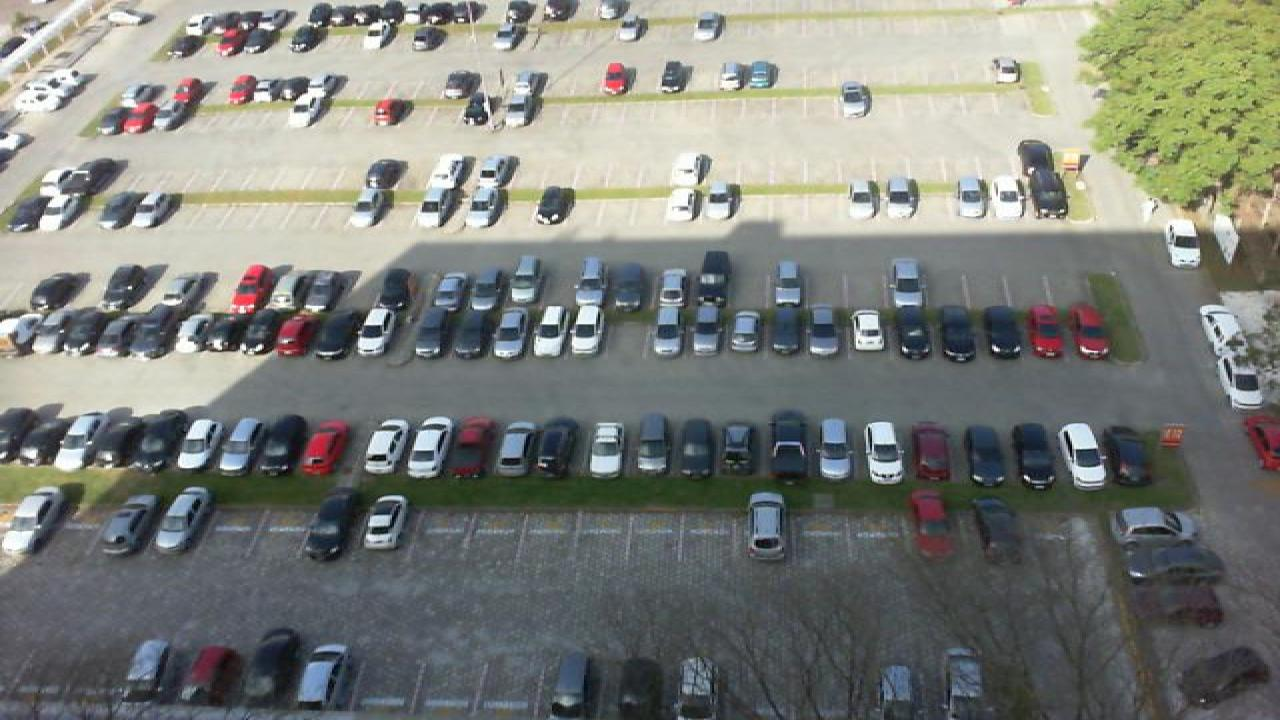Car: (302, 487, 364, 565), (100, 487, 164, 556), (154, 486, 216, 555), (1018, 140, 1072, 219), (12, 66, 96, 115), (970, 495, 1026, 567), (128, 408, 188, 472), (908, 488, 958, 562), (1116, 506, 1200, 550), (362, 415, 418, 477), (296, 644, 352, 706), (764, 408, 810, 482), (2, 490, 52, 556), (960, 423, 1010, 489), (1108, 423, 1158, 489), (258, 414, 310, 477), (1062, 420, 1110, 488), (1198, 304, 1252, 364), (408, 415, 458, 477), (1012, 424, 1058, 491), (450, 417, 498, 480), (906, 420, 954, 483), (548, 653, 592, 720), (122, 639, 172, 697), (538, 414, 582, 479), (300, 420, 350, 477), (24, 408, 72, 467), (90, 411, 140, 467), (98, 264, 154, 313), (746, 491, 786, 559), (162, 264, 216, 314), (864, 419, 906, 483), (980, 304, 1028, 360), (1064, 303, 1112, 359), (52, 412, 98, 470), (350, 305, 400, 358), (632, 412, 672, 478), (410, 304, 458, 359), (1224, 350, 1266, 412), (174, 416, 222, 470), (138, 305, 186, 359), (18, 308, 70, 357), (270, 305, 318, 358), (360, 495, 406, 550), (676, 657, 716, 720), (58, 308, 108, 358), (98, 307, 148, 357), (28, 270, 90, 310), (694, 249, 736, 308), (1026, 303, 1070, 359), (306, 269, 362, 313), (676, 420, 718, 477), (718, 421, 760, 478), (222, 416, 266, 470), (228, 262, 272, 316), (812, 419, 852, 478), (588, 420, 628, 479), (452, 306, 498, 357), (936, 303, 976, 361), (364, 264, 414, 310), (36, 156, 92, 197), (892, 303, 932, 360), (508, 253, 550, 307), (498, 422, 538, 478), (1164, 217, 1206, 269), (6, 191, 58, 233), (688, 302, 728, 356), (270, 269, 318, 314), (888, 256, 928, 310), (312, 308, 356, 357), (0, 408, 38, 463), (528, 304, 568, 356), (648, 304, 688, 356), (802, 304, 842, 356), (568, 256, 608, 308), (230, 308, 272, 357), (458, 184, 504, 228), (180, 310, 226, 354), (568, 305, 606, 358), (494, 306, 532, 359), (764, 304, 802, 356), (96, 191, 144, 232), (412, 187, 460, 227), (770, 259, 810, 307), (608, 263, 646, 312), (350, 188, 396, 228), (850, 307, 886, 356), (304, 84, 344, 128), (48, 191, 92, 231), (138, 190, 182, 230), (728, 308, 766, 354), (534, 185, 576, 225), (666, 182, 706, 223), (498, 86, 538, 127), (884, 176, 922, 219), (360, 158, 408, 192), (432, 270, 470, 312), (426, 153, 470, 189), (956, 176, 992, 219), (0, 312, 34, 356), (994, 174, 1028, 218), (472, 269, 508, 310), (96, 102, 136, 138), (846, 178, 880, 219), (654, 268, 688, 309), (838, 81, 874, 119), (484, 153, 522, 189), (674, 152, 712, 187), (706, 184, 742, 219), (658, 61, 694, 94), (126, 101, 158, 135), (606, 60, 636, 96), (224, 75, 256, 108), (692, 11, 726, 42), (370, 97, 404, 128), (168, 76, 200, 108), (718, 62, 752, 92), (992, 56, 1024, 86), (156, 102, 188, 132), (748, 60, 778, 91)
